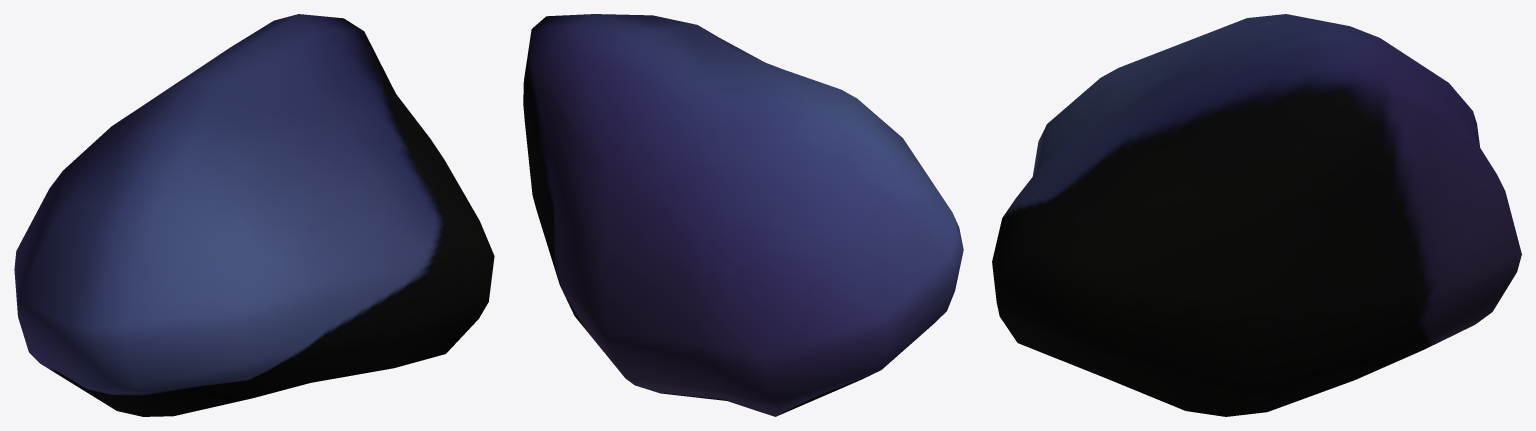
Rendered from Swamp_Rocks_1.glb.
The picture shows the model from 3 angles, left to right: view 1: azimuth 30°, elevation 25°; view 2: azimuth 150°, elevation 25°; view 3: azimuth 270°, elevation 25°; orthographic projection. The views are drawn at different scales.
Parts seen in each view (by area): view 1: Cube.001; view 2: Cube.001; view 3: Cube.001.
Boxes of the visible parts, <box> form: Cube.001: <box>14,14,494,416</box>; Cube.001: <box>523,14,963,416</box>; Cube.001: <box>992,14,1521,416</box>.
Bounding box in the file's own units: 69.99 × 54.03 × 69.8.
Materials: 1 (1 with a texture image).
